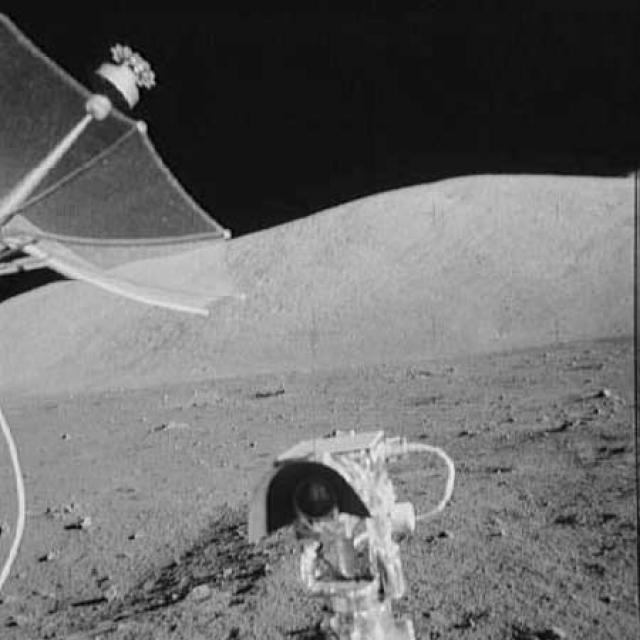artifact: (0, 14, 253, 326), (246, 416, 461, 638), (0, 414, 36, 598)
crater: (467, 436, 626, 475), (214, 385, 288, 409)
